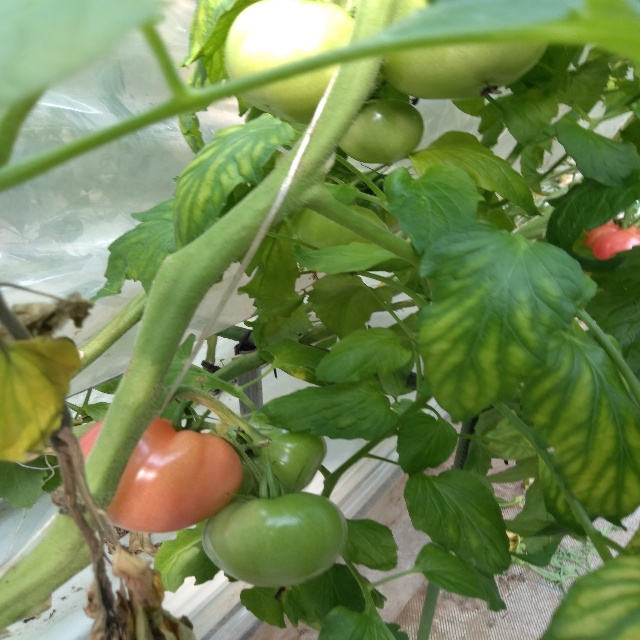b_green: (224, 0, 356, 124), (201, 491, 349, 589), (378, 40, 549, 100), (208, 414, 327, 500), (338, 98, 424, 164)
b_half_ripened: (67, 413, 243, 535)
